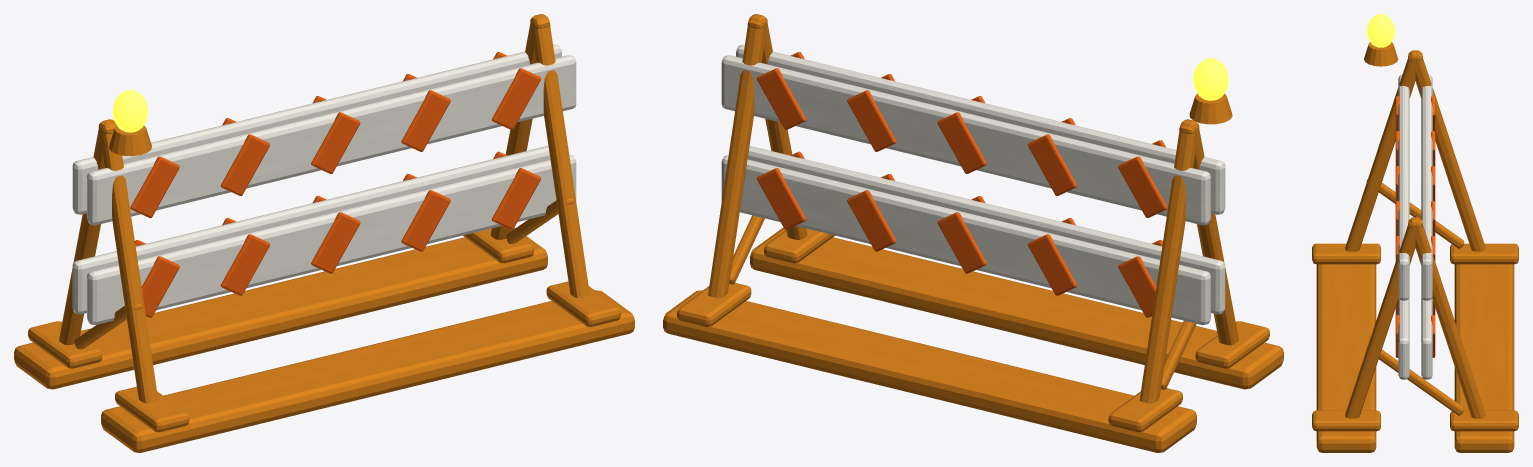
File: prop_construction_barrier.glb
The picture shows the model from 3 angles, left to right: view 1: azimuth 30°, elevation 25°; view 2: azimuth 150°, elevation 25°; view 3: azimuth 270°, elevation 25°; orthographic projection. The views are drawn at different scales.
Visible parts, largest first — view 1: prop_construction_barrier_foot_f, prop_construction_barrier_foot_b, prop_construction_barrier_board_f_1, prop_construction_barrier_board_f_0, prop_construction_barrier_board_b_0, prop_construction_barrier_board_b_1, prop_construction_barrier_leg_r_f, prop_construction_barrier_leg_l_f, prop_construction_barrier_leg_l_b, prop_construction_barrier_footpad_lf, prop_construction_barrier_footpad_rf, prop_construction_barrier_footpad_lb (+16 smaller); view 2: prop_construction_barrier_foot_b, prop_construction_barrier_foot_f, prop_construction_barrier_board_b_1, prop_construction_barrier_board_b_0, prop_construction_barrier_board_f_0, prop_construction_barrier_board_f_1, prop_construction_barrier_leg_r_b, prop_construction_barrier_leg_l_b, prop_construction_barrier_leg_l_f, prop_construction_barrier_footpad_lf, prop_construction_barrier_footpad_lb, prop_construction_barrier_footpad_rb (+16 smaller); view 3: prop_construction_barrier_foot_f, prop_construction_barrier_foot_b, prop_construction_barrier_leg_r_f, prop_construction_barrier_leg_r_b, prop_construction_barrier_leg_l_f, prop_construction_barrier_leg_l_b, prop_construction_barrier_board_f_1, prop_construction_barrier_board_b_1, prop_construction_barrier_footpad_rf, prop_construction_barrier_footpad_lf, prop_construction_barrier_footpad_rb, prop_construction_barrier_footpad_lb (+6 smaller).
Part boxes in pixels (x1,y1,x2,y2): prop_construction_barrier_foot_f: (101,290,634,452); prop_construction_barrier_foot_b: (14,227,547,389); prop_construction_barrier_board_f_1: (87,55,576,225); prop_construction_barrier_board_f_0: (87,155,576,324); prop_construction_barrier_board_b_0: (72,146,550,314); prop_construction_barrier_board_b_1: (72,44,561,214); prop_construction_barrier_leg_r_f: (530,15,589,298); prop_construction_barrier_leg_l_f: (98,121,158,403); prop_construction_barrier_leg_l_b: (59,119,116,345); prop_construction_barrier_footpad_lf: (115,386,189,432); prop_construction_barrier_footpad_rf: (546,281,620,326); prop_construction_barrier_footpad_lb: (28,321,102,368); prop_construction_barrier_foot_b: (663,290,1196,452); prop_construction_barrier_foot_f: (750,227,1283,389); prop_construction_barrier_board_b_1: (721,55,1210,225); prop_construction_barrier_board_b_0: (721,155,1210,324); prop_construction_barrier_board_f_0: (747,146,1225,314); prop_construction_barrier_board_f_1: (736,44,1225,214); prop_construction_barrier_leg_r_b: (708,15,767,298); prop_construction_barrier_leg_l_b: (1139,121,1199,403); prop_construction_barrier_leg_l_f: (1179,119,1238,345); prop_construction_barrier_footpad_lf: (1195,321,1269,368); prop_construction_barrier_footpad_lb: (1108,388,1182,432); prop_construction_barrier_footpad_rb: (677,282,751,326); prop_construction_barrier_foot_f: (1316,264,1376,452); prop_construction_barrier_foot_b: (1454,264,1514,452); prop_construction_barrier_leg_r_f: (1345,217,1422,418); prop_construction_barrier_leg_r_b: (1408,217,1485,418); prop_construction_barrier_leg_l_f: (1345,50,1422,251); prop_construction_barrier_leg_l_b: (1408,50,1485,251); prop_construction_barrier_board_f_1: (1398,74,1409,300); prop_construction_barrier_board_b_1: (1421,74,1432,300); prop_construction_barrier_footpad_rf: (1312,410,1380,431); prop_construction_barrier_footpad_lf: (1312,243,1380,264); prop_construction_barrier_footpad_rb: (1450,410,1518,431); prop_construction_barrier_footpad_lb: (1450,243,1518,264).
Size of the model in its own units: 2 by 1.25 by 0.9.
4 materials, 3 textured.
